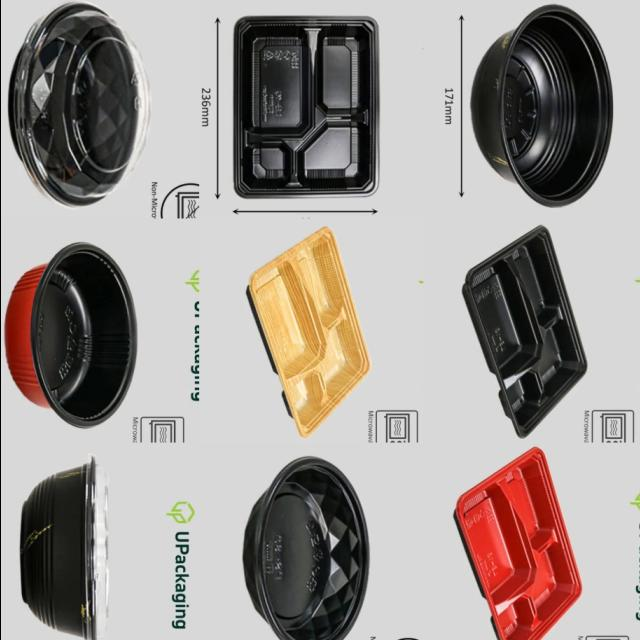plastik: (471, 5, 612, 207), (10, 2, 149, 206), (463, 225, 586, 438), (234, 17, 378, 198), (248, 227, 369, 437), (454, 447, 581, 640), (4, 243, 136, 428), (243, 457, 368, 640), (19, 457, 108, 640)
